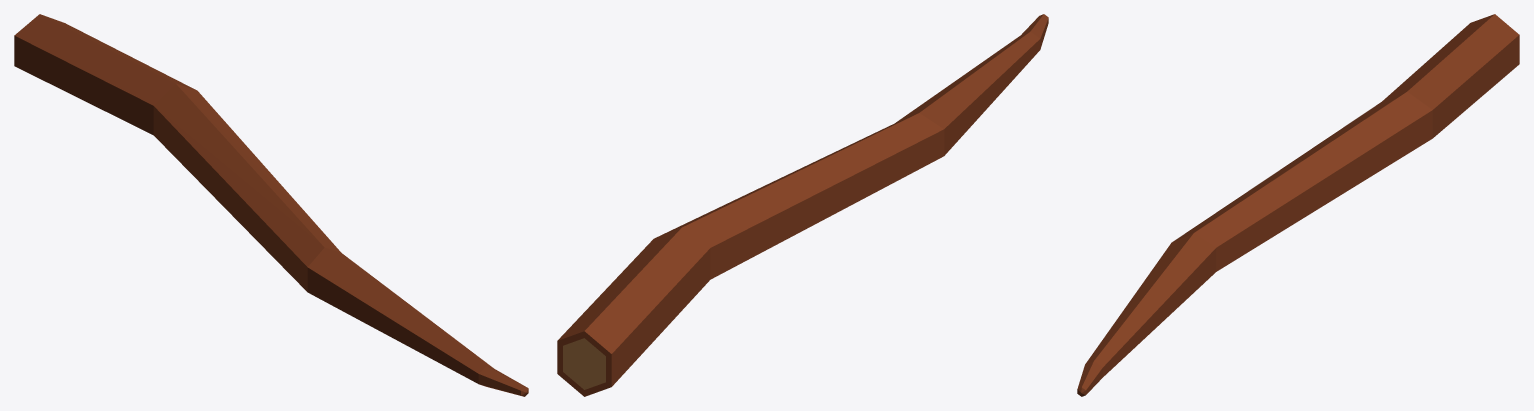
The model's file is Log_1.fbx.
3 renders of one model, left to right at view 1: azimuth 30°, elevation 25°; view 2: azimuth 150°, elevation 25°; view 3: azimuth 330°, elevation 25°, orthographic. The views are drawn at different scales.
Visible parts, largest first — view 1: Log.1; view 2: Log.1; view 3: Log.1.
Boxes of the visible parts, x1,y1,x2,y2 form: Log.1: [14, 14, 528, 396]; Log.1: [557, 14, 1048, 396]; Log.1: [1077, 14, 1519, 396].
Bounding box in the file's own units: 11.52 × 9.62 × 114.
